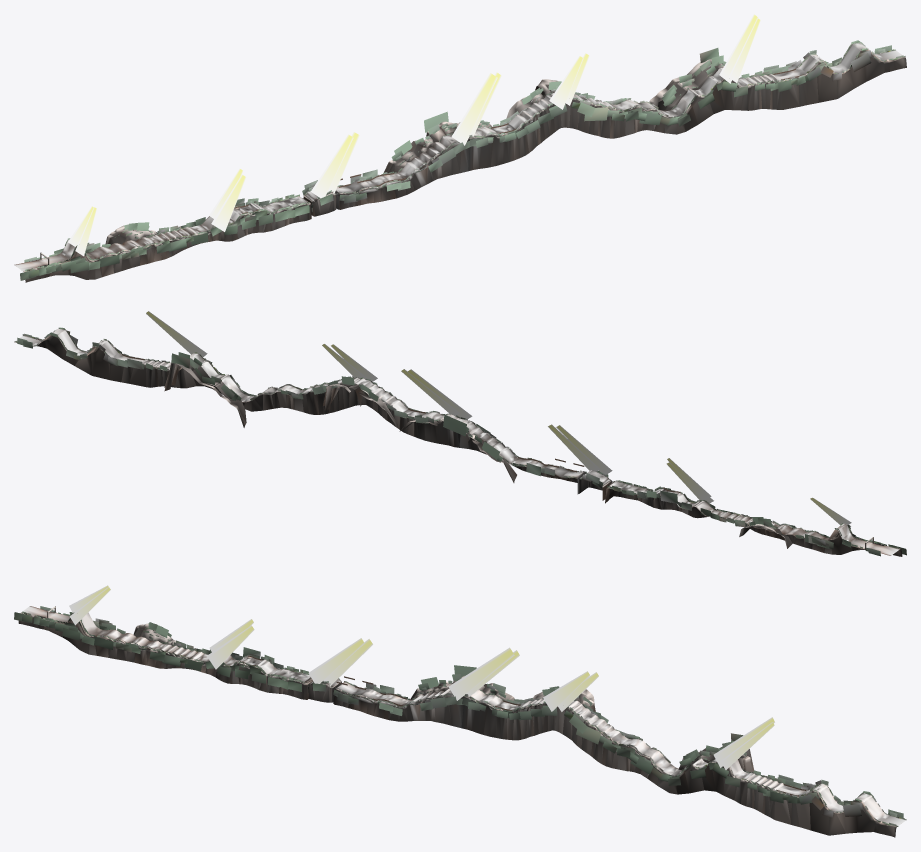
File: Forest_14.fbx
The picture shows the model from 3 angles, top to bottom: view 1: azimuth 30°, elevation 25°; view 2: azimuth 150°, elevation 25°; view 3: azimuth 330°, elevation 25°; orthographic projection.
Visible parts, largest first — view 1: Mountain_01, Tree_01, Ground_01, Light_01; view 2: Mountain_01, Tree_01, Ground_01, Light_01; view 3: Mountain_01, Tree_01, Ground_01, Light_01.
Part boxes in pixels (x1,y1,x2,y2): Mountain_01: (23, 49, 906, 282); Tree_01: (20, 40, 905, 280); Ground_01: (14, 43, 902, 271); Light_01: (68, 14, 760, 256); Mountain_01: (23, 329, 902, 556); Tree_01: (14, 327, 906, 556); Ground_01: (14, 329, 899, 555); Light_01: (146, 311, 851, 526); Mountain_01: (18, 612, 896, 837); Tree_01: (14, 606, 906, 826); Ground_01: (21, 606, 906, 825); Light_01: (69, 585, 774, 769).
Bounding box in the file's own units: 80902 × 8602 × 3781.
